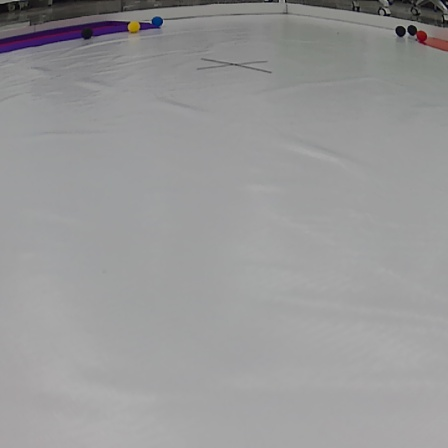blue: (151, 14, 166, 28)
red: (412, 29, 428, 43)
red_aim: (0, 19, 173, 54)
yellow: (126, 21, 142, 34)
